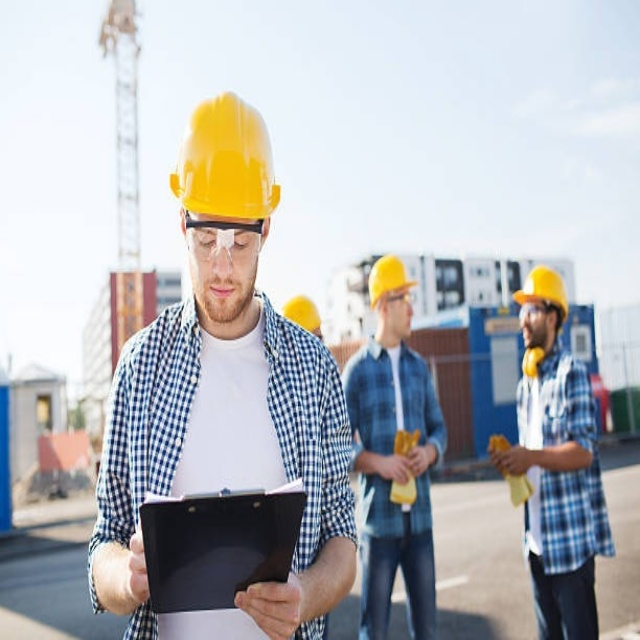Gafas: (183, 211, 266, 259), (518, 302, 554, 322), (385, 291, 415, 305)
Sin_guantes: (233, 573, 303, 640), (125, 525, 150, 606), (486, 442, 521, 477), (404, 444, 431, 476)
Sin_mascara: (206, 276, 239, 318)
